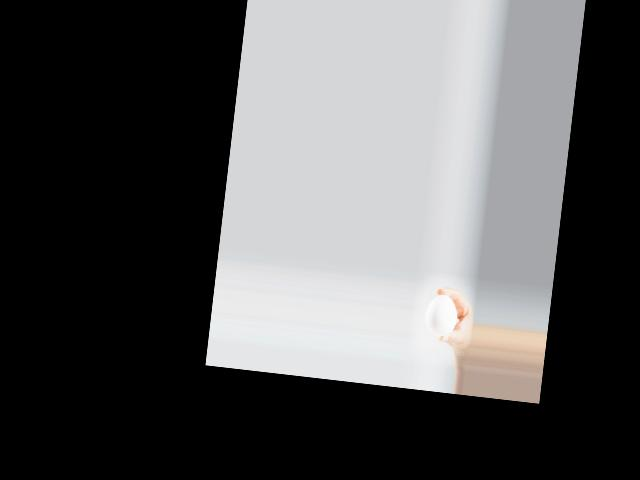egg: (424, 292, 458, 337)
